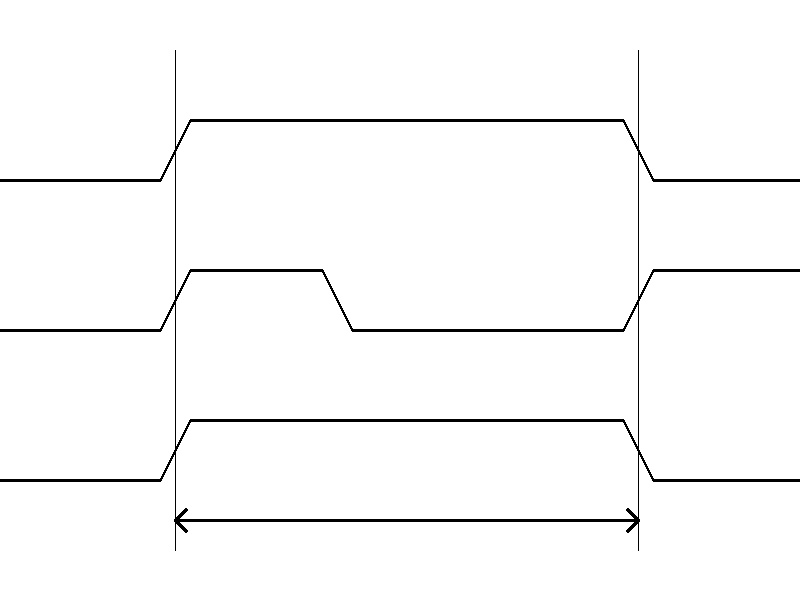double_arrow: (175, 505, 638, 535)
